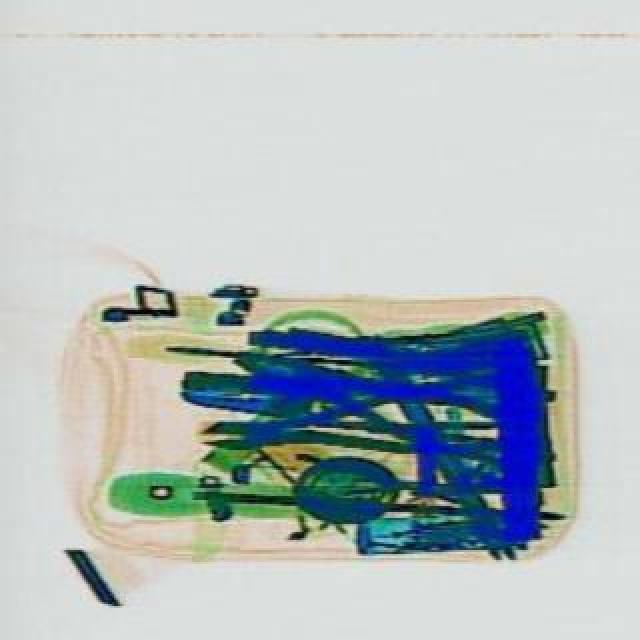wrench: (224, 324, 500, 464), (192, 376, 504, 470)
